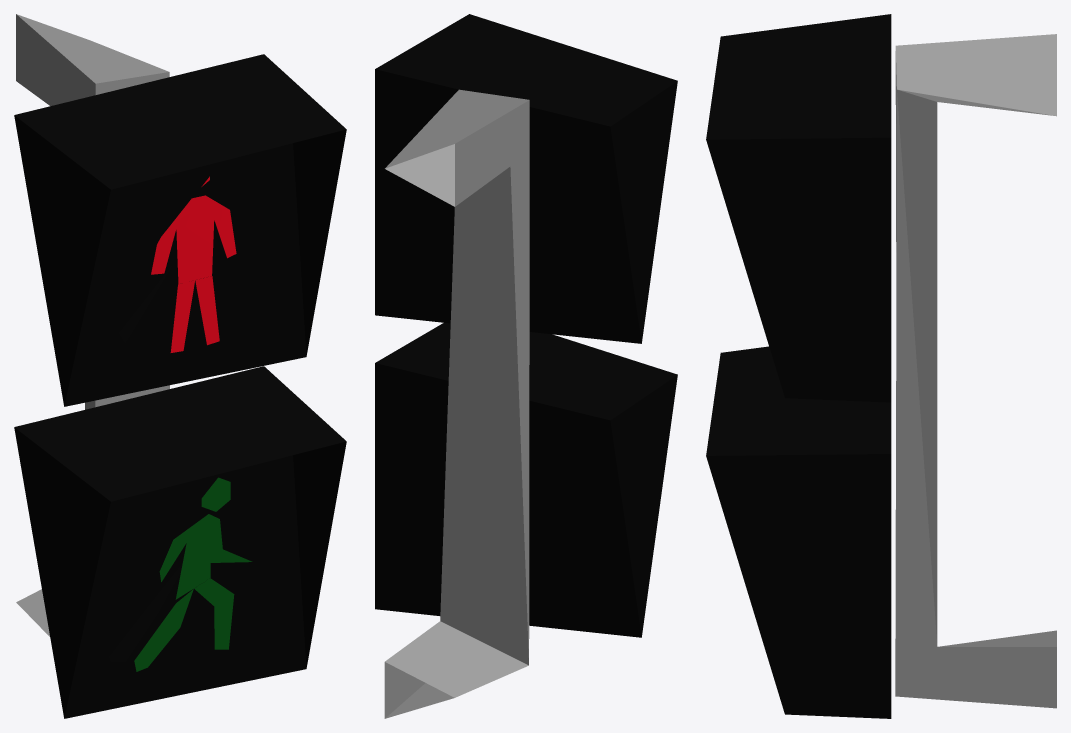
Rendered from SemaforoPedestreLOD1.fbx.
3 views of the same model, side by side, from view 1: azimuth 30°, elevation 25°; view 2: azimuth 150°, elevation 25°; view 3: azimuth 270°, elevation 25° (orthographic). The views are drawn at different scales.
Parts seen in each view (by area): view 1: SemaforoPedestresLOD1; view 2: SemaforoPedestresLOD1; view 3: SemaforoPedestresLOD1.
Part boxes in pixels (x1,y1,x2,y2): SemaforoPedestresLOD1: (14,14,346,718); SemaforoPedestresLOD1: (375,14,677,718); SemaforoPedestresLOD1: (706,14,1056,718).
Size of the model in its own units: 28.98 by 69.7 by 34.77.
